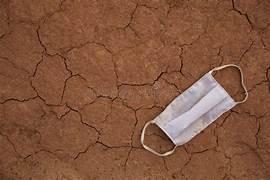Mask: (141, 64, 247, 155)
